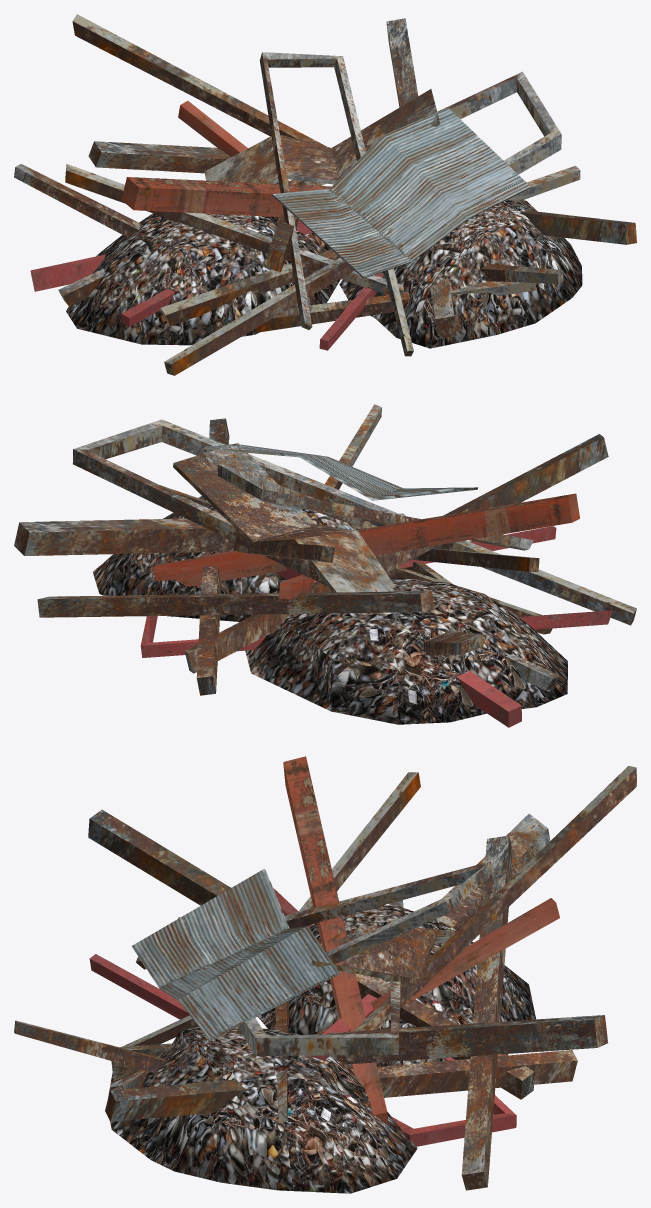
File: garbage_heap.glb
The picture shows the model from 3 angles, top to bottom: view 1: azimuth 30°, elevation 25°; view 2: azimuth 150°, elevation 25°; view 3: azimuth 270°, elevation 25°; orthographic projection. The views are drawn at different scales.
Visible parts, largest first — view 1: garbageheap_4; view 2: garbageheap_4; view 3: garbageheap_4.
Boxes of the visible parts, x1=… form: garbageheap_4: x1=14, y1=14, x2=636, y2=375; garbageheap_4: x1=14, y1=404, x2=636, y2=727; garbageheap_4: x1=14, y1=756, x2=636, y2=1193.
Size of the model in its own units: 19.06 by 7.91 by 18.92.
5 materials, 5 textured.
